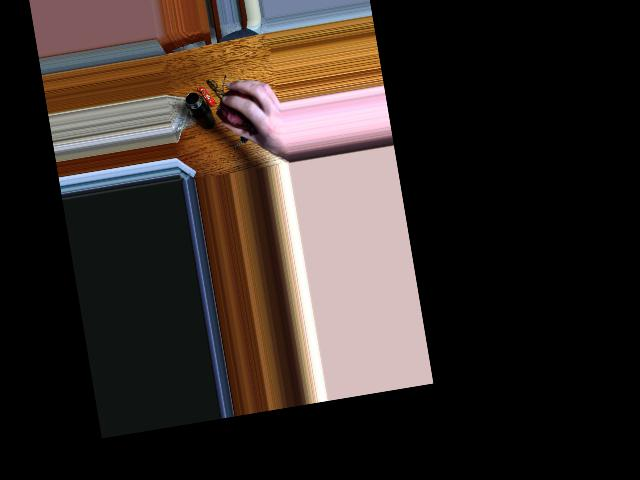onion: (216, 85, 256, 128)
